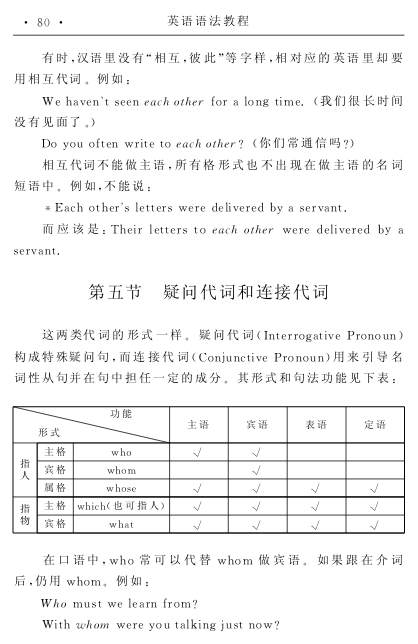table: (13, 406, 405, 534)
